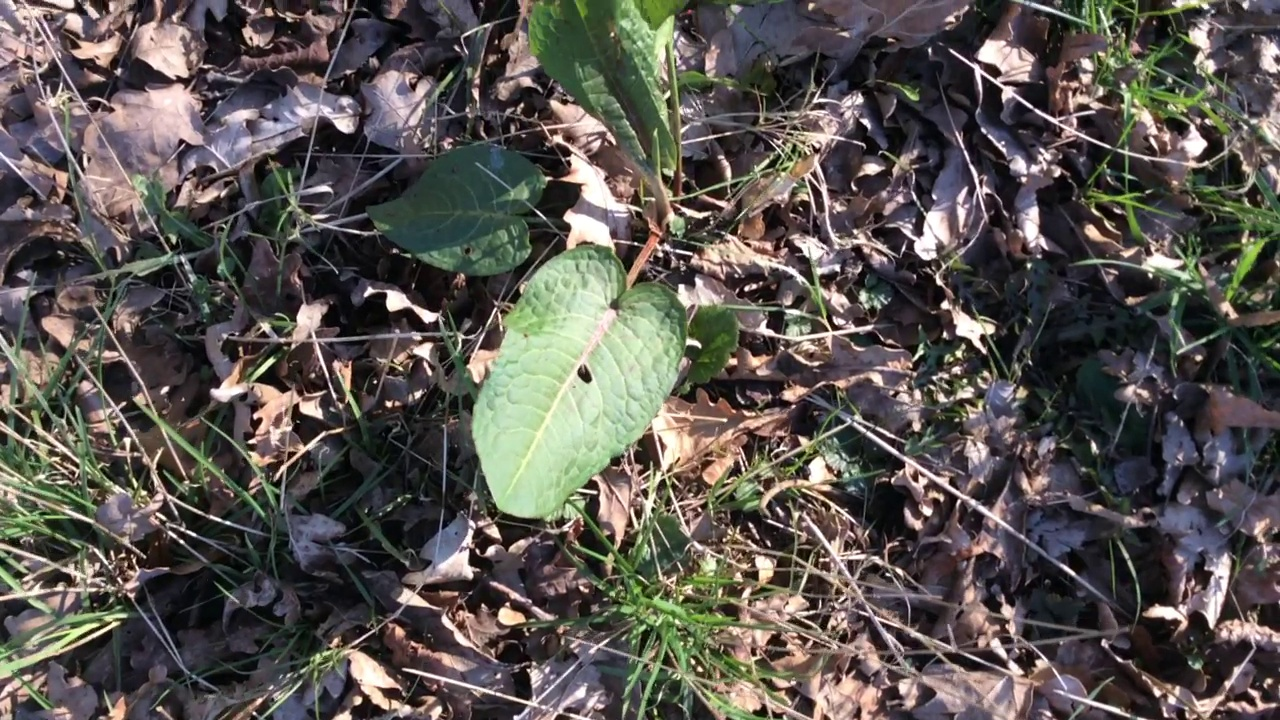rumex: (367, 1, 737, 518)
